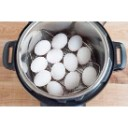begg: (51, 32, 67, 49), (31, 58, 49, 71), (84, 67, 97, 84), (66, 53, 78, 70), (52, 63, 64, 79)
